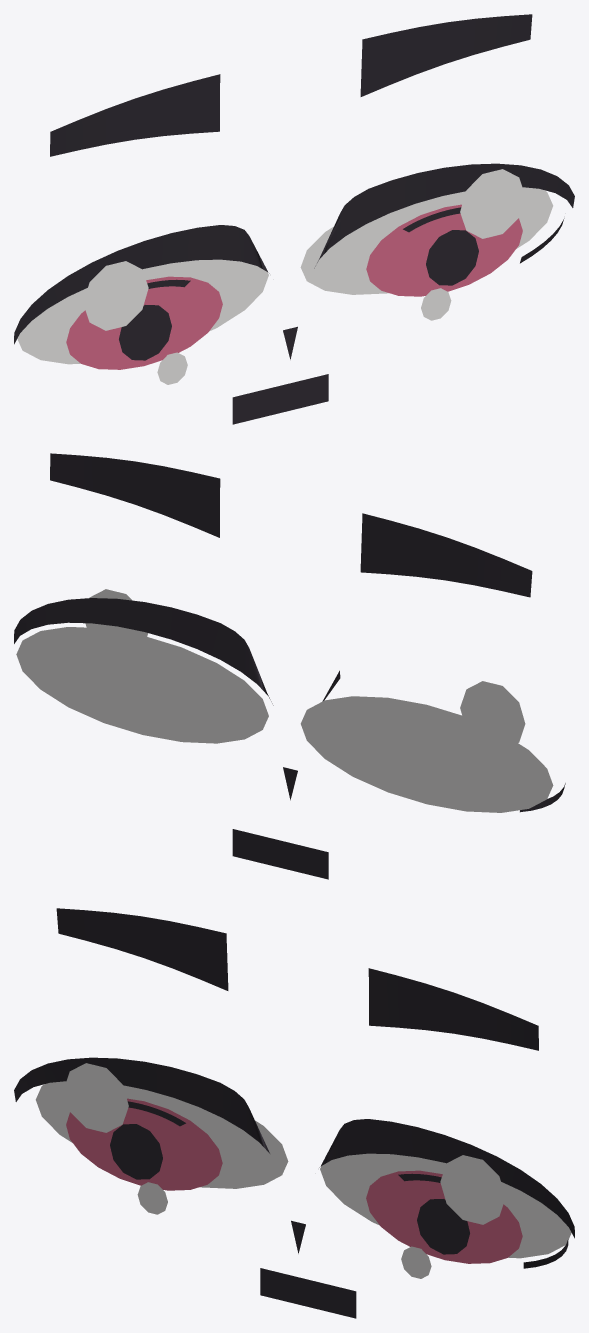
Rendered from face_v2_bored.glb.
The picture shows the model from 3 angles, top to bottom: view 1: azimuth 30°, elevation 25°; view 2: azimuth 150°, elevation 25°; view 3: azimuth 330°, elevation 25°; orthographic projection.
Parts seen in each view (by area): view 1: Face v2 bored; view 2: Face v2 bored; view 3: Face v2 bored.
Part boxes in pixels (x1,y1,x2,y2): Face v2 bored: (14, 14, 574, 424); Face v2 bored: (14, 453, 565, 879); Face v2 bored: (14, 908, 574, 1318).
Bounding box in the file's own units: 0.2574 × 0.1597 × 0.0189.
